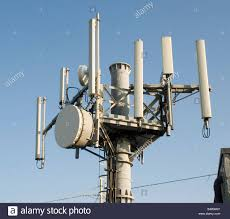ba: (52, 103, 94, 156)
sa: (190, 37, 218, 130), (128, 37, 151, 125), (86, 17, 104, 107), (32, 92, 49, 167), (159, 33, 178, 78), (55, 61, 71, 105)
